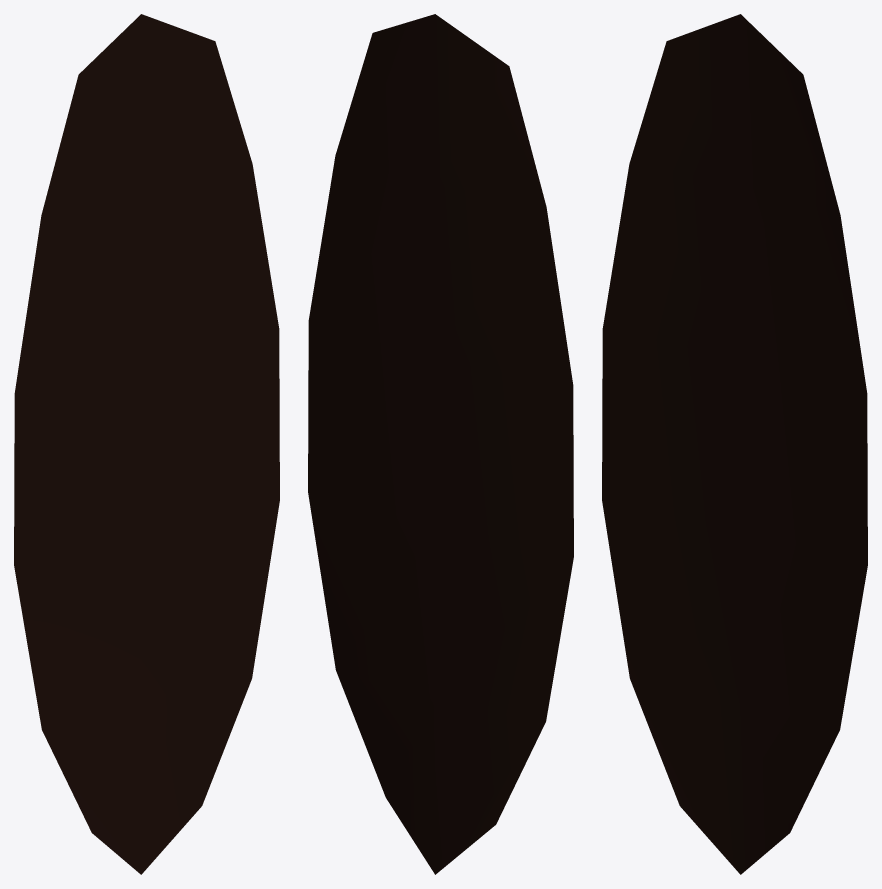
File: rooster_feather_flight_secondary_018.obj
3 renders of one model, left to right at view 1: azimuth 30°, elevation 25°; view 2: azimuth 150°, elevation 25°; view 3: azimuth 330°, elevation 25°, orthographic.
Parts seen in each view (by area): view 1: feather_flight_secondary_018; view 2: feather_flight_secondary_018; view 3: feather_flight_secondary_018.
Part boxes in pixels (x1,y1,x2,y2): feather_flight_secondary_018: [14, 14, 279, 874]; feather_flight_secondary_018: [308, 14, 573, 874]; feather_flight_secondary_018: [602, 14, 867, 874].
Bounding box in the file's own units: 0.0135 × 0.0419 × 0.000501.
